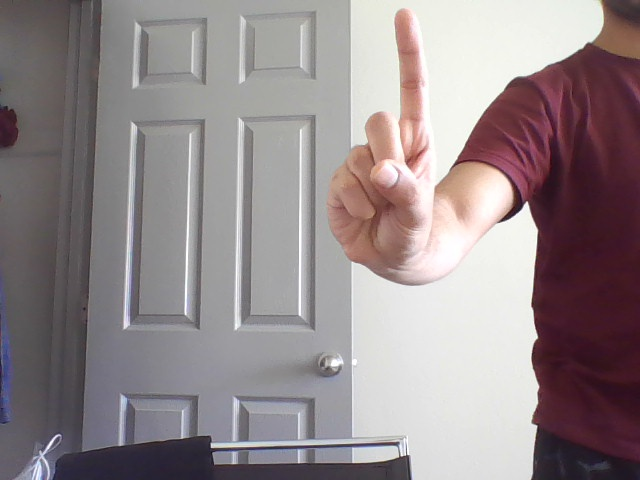one: (337, 3, 439, 263)
